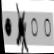correct: (3, 17, 14, 38)
not correct: (12, 3, 31, 54)
